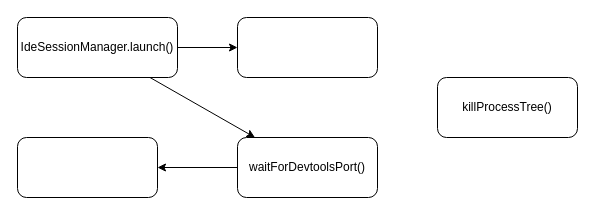
The diagram is 595 pixels wide and 215 high, and some of its shapes have lost their labels. Here are the shapes that lost their labels. From the top down, the box of each, then its label:
(236, 16, 378, 78): resolveBinary()
(16, 136, 158, 198): readDevtoolsPort()
